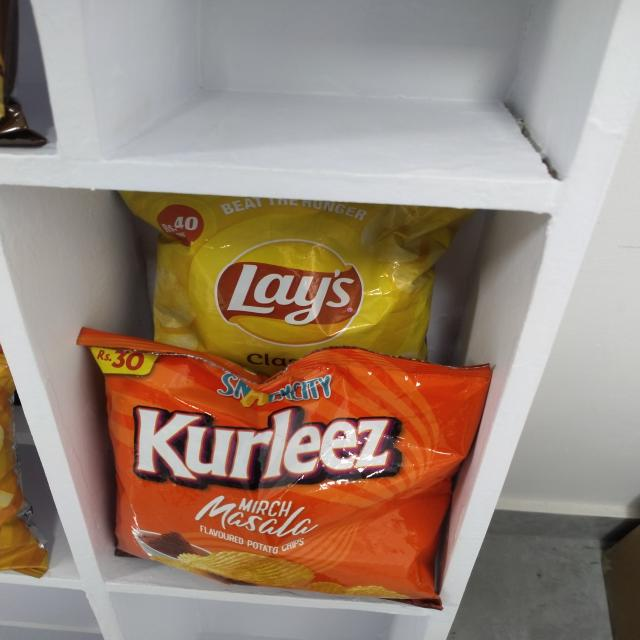Plastic: (90, 352, 462, 606), (158, 206, 451, 344)
